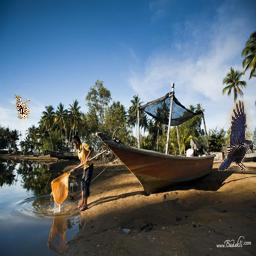Crow: (219, 101, 254, 172)
Sparrow: (14, 95, 30, 120)
